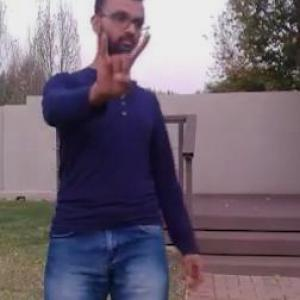takeoff-hand: (87, 26, 158, 105)
